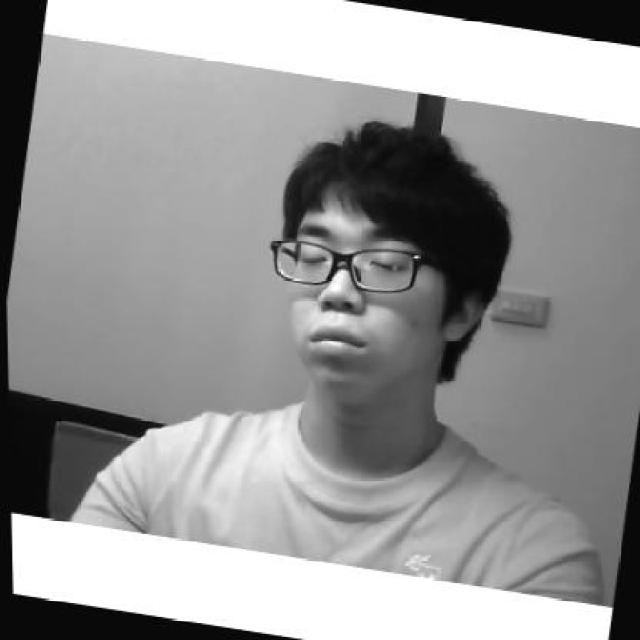inattentif: (243, 105, 512, 421)
